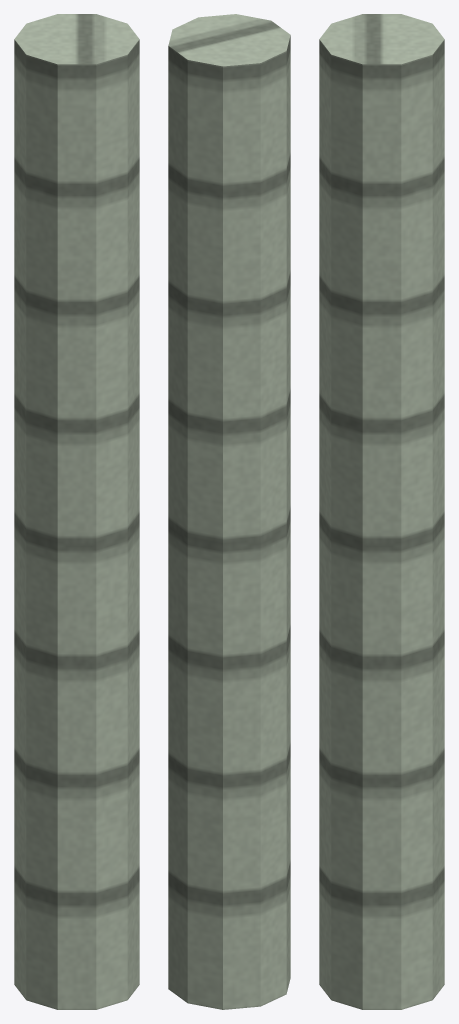
The model's file is velvet_rope_stanchion.glb.
3 views of the same model, side by side, from view 1: azimuth 90°, elevation 25°; view 2: azimuth 210°, elevation 25°; view 3: azimuth 270°, elevation 25° (orthographic).
Visible parts, largest first — view 1: velvet_rope_stanchion-col; view 2: velvet_rope_stanchion-col; view 3: velvet_rope_stanchion-col.
Part boxes in pixels (left/top/right/bottom): velvet_rope_stanchion-col: left=14, top=14, right=139, bottom=1009; velvet_rope_stanchion-col: left=168, top=14, right=290, bottom=1009; velvet_rope_stanchion-col: left=319, top=14, right=444, bottom=1009.
Size of the model in its own units: 0.1141 by 1 by 0.12.
1 material, 1 textured.
